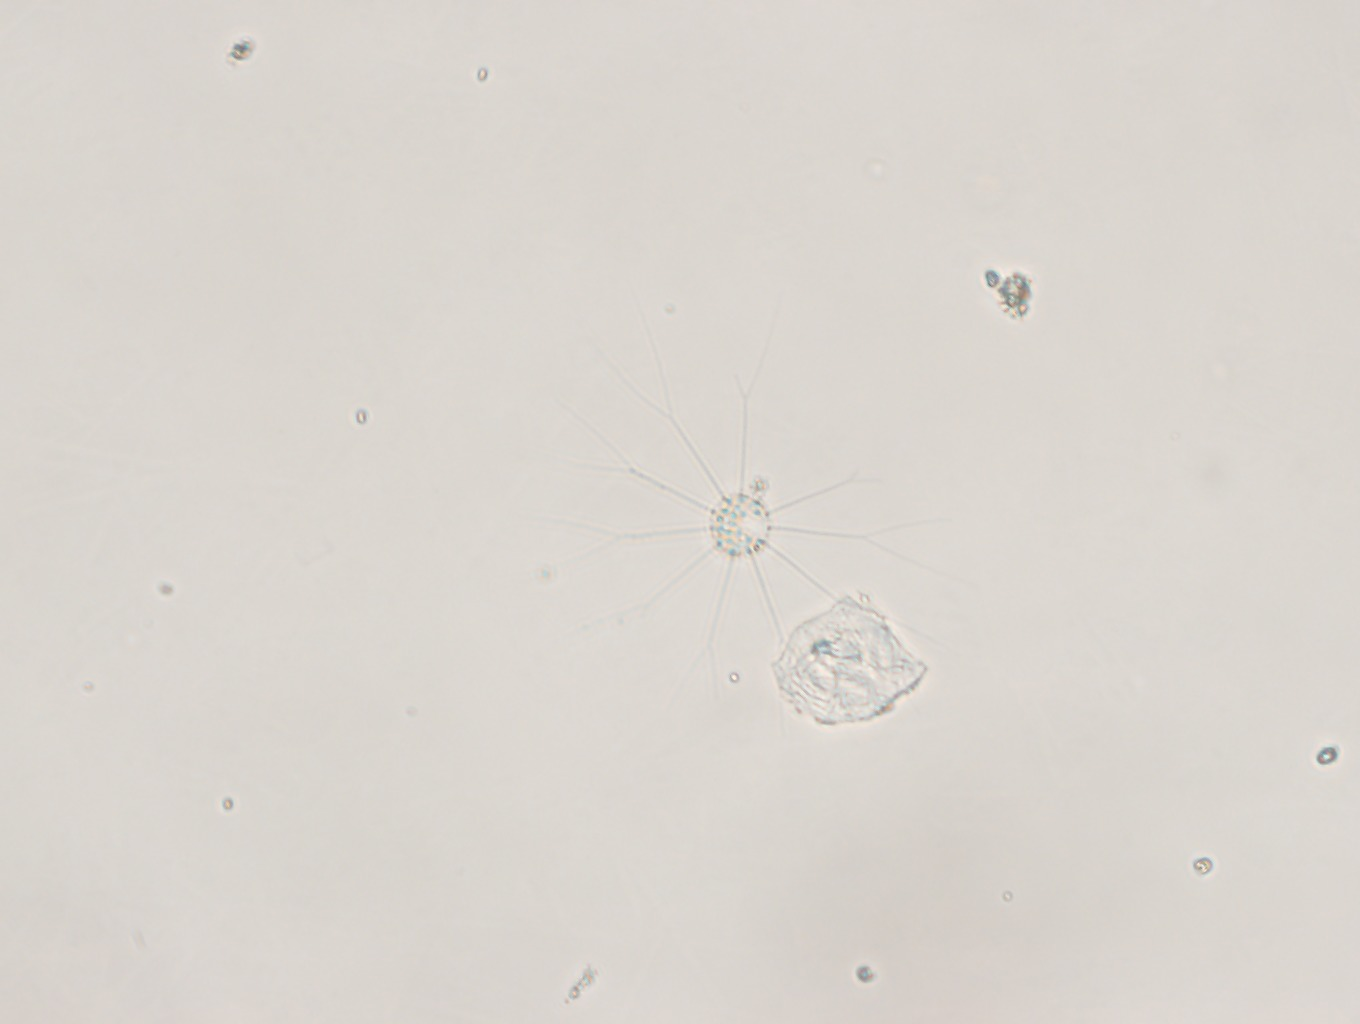bacteriastrum: (564, 321, 948, 710)
